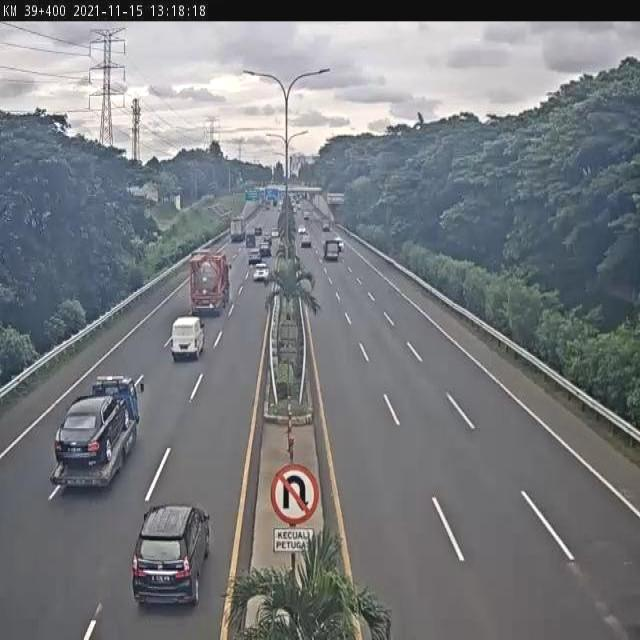Car: (126, 493, 211, 620), (55, 396, 120, 466), (253, 265, 269, 282)
Truck: (183, 238, 234, 316)
Van: (170, 315, 206, 362)
